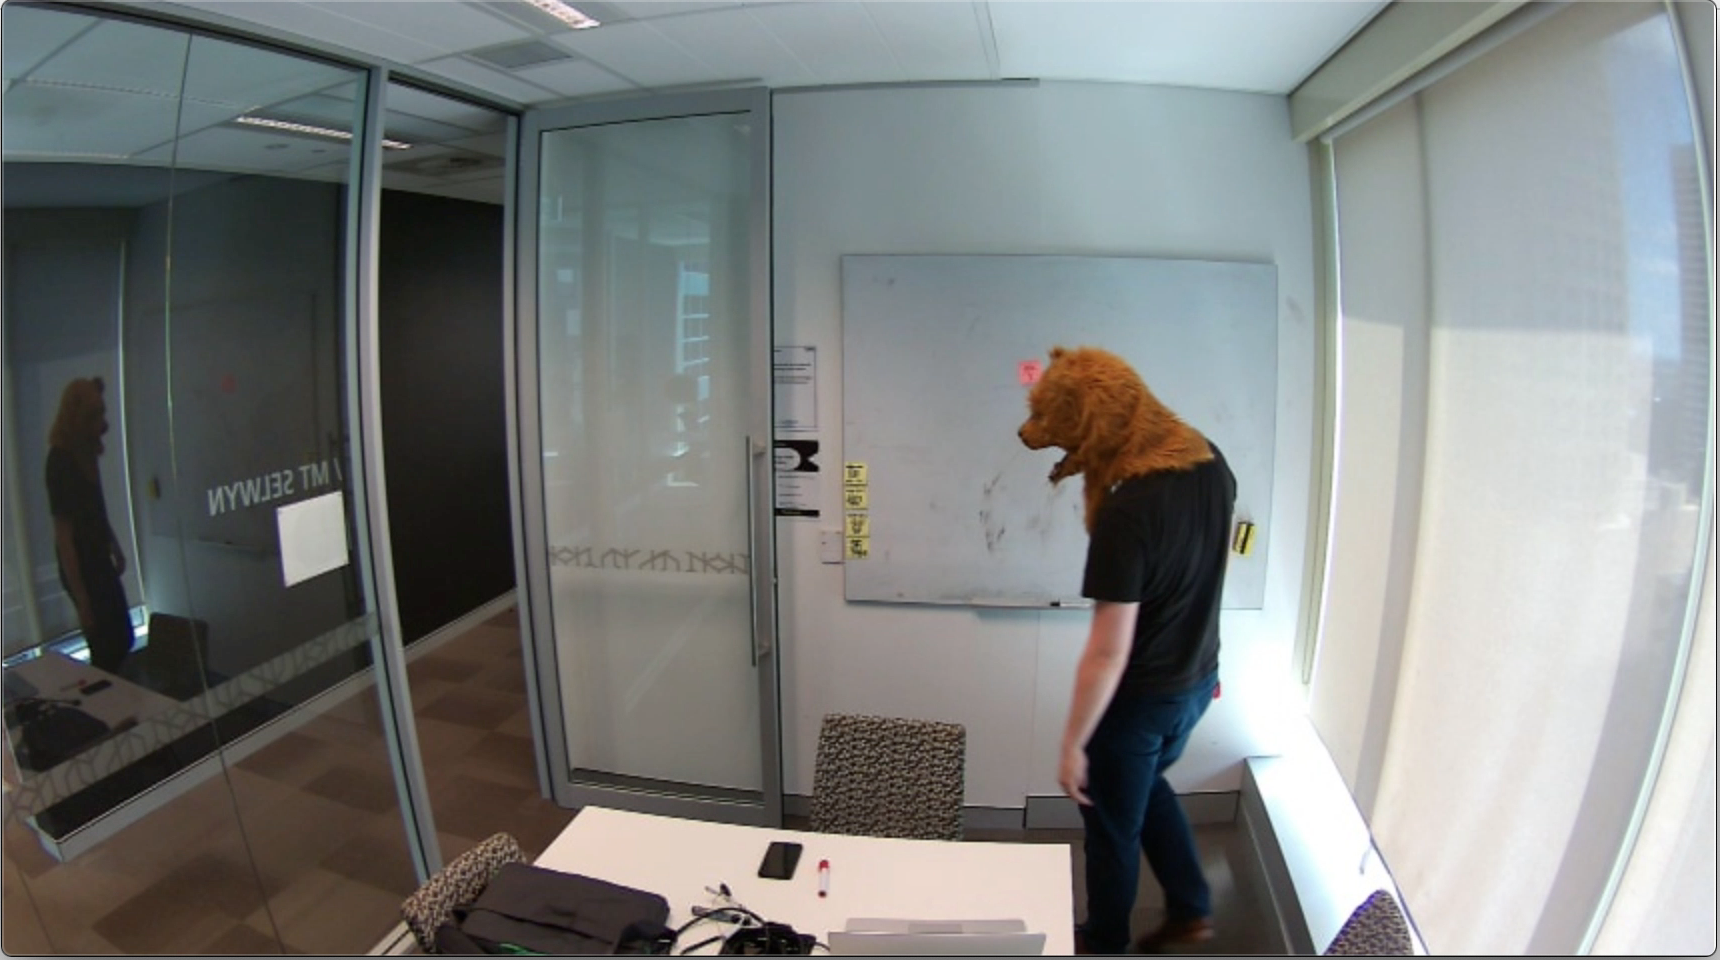Bear: (1014, 337, 1175, 488)
